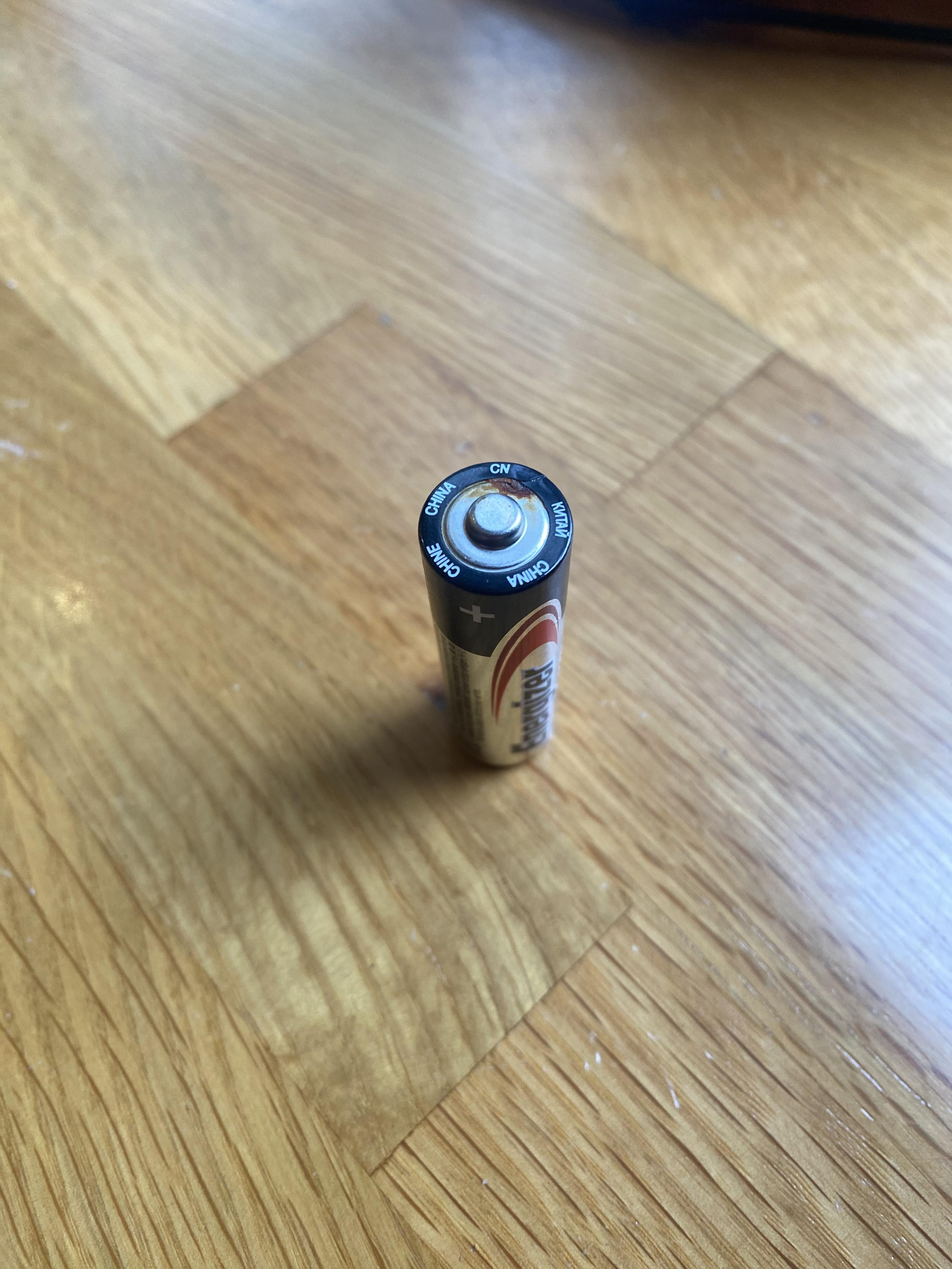AA: (412, 456, 579, 775)
